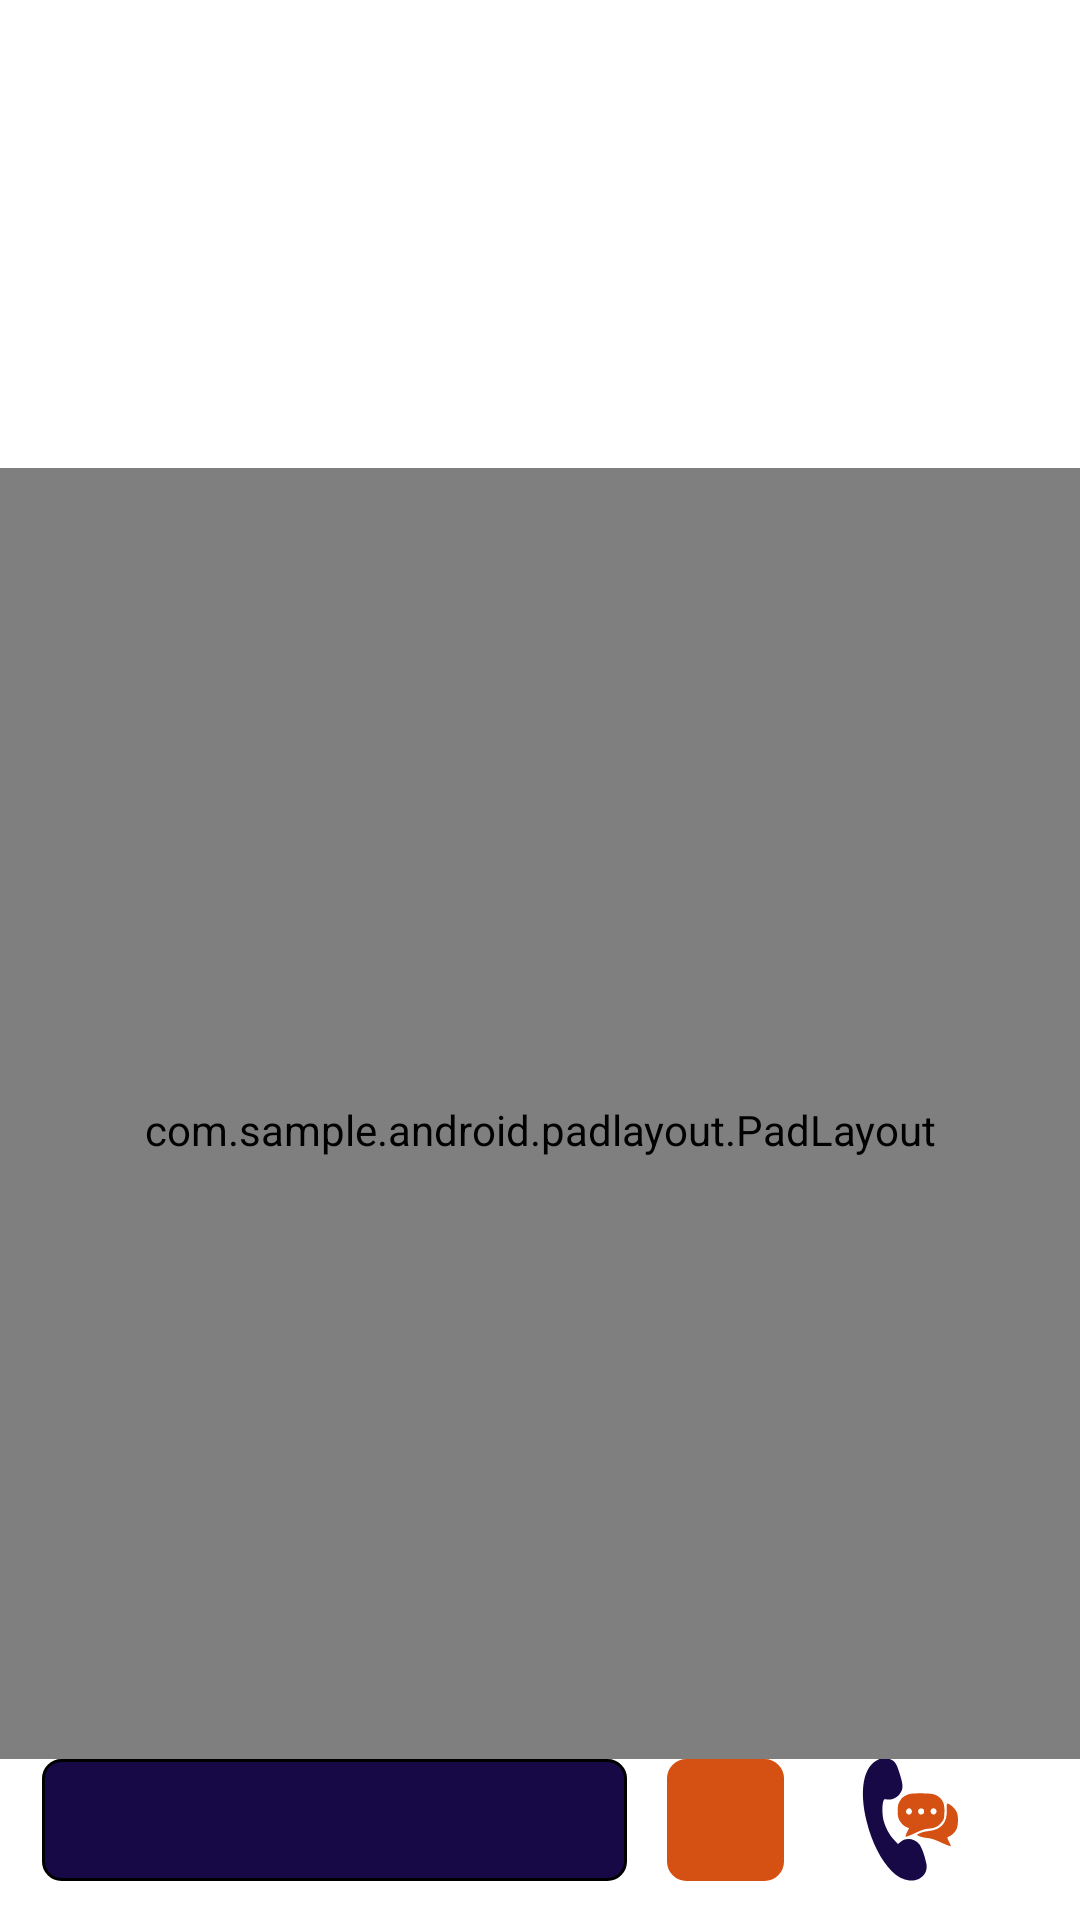

Named icons in this screenshot (1080×1920) and their centers, (x,y):
dial: (910,1820)
